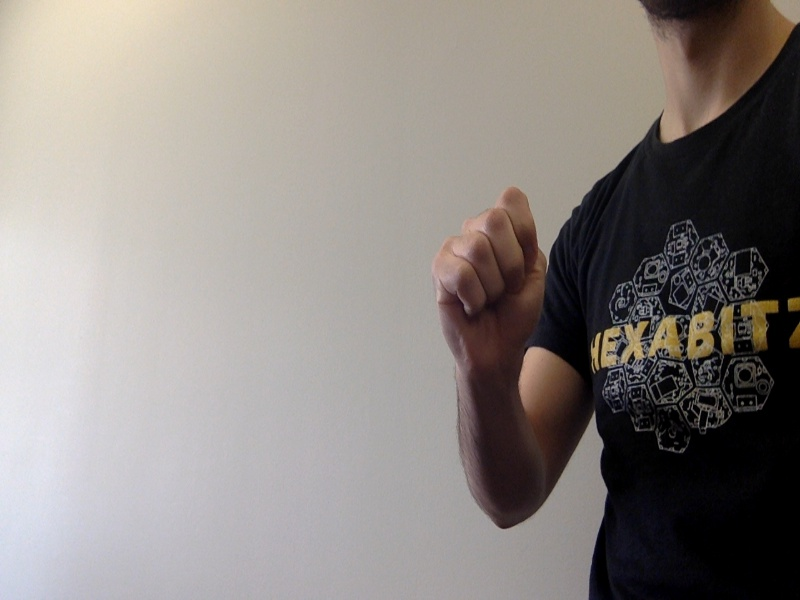0-hand: (431, 187, 548, 358)
